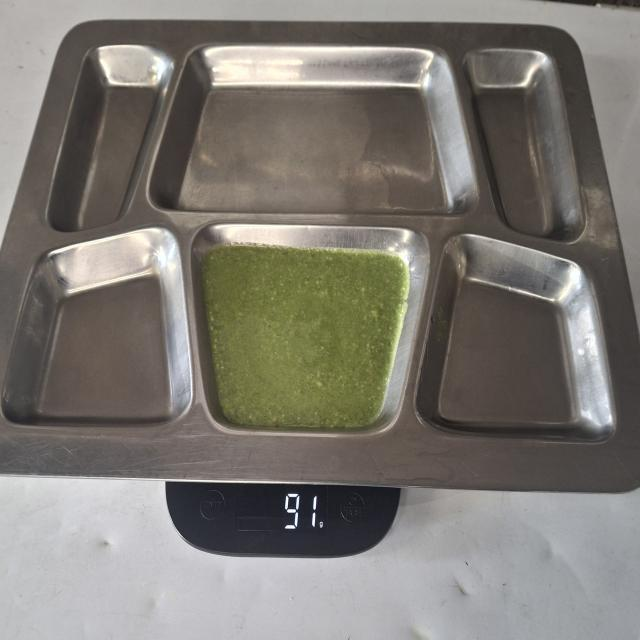Chutney: (198, 244, 410, 433)
